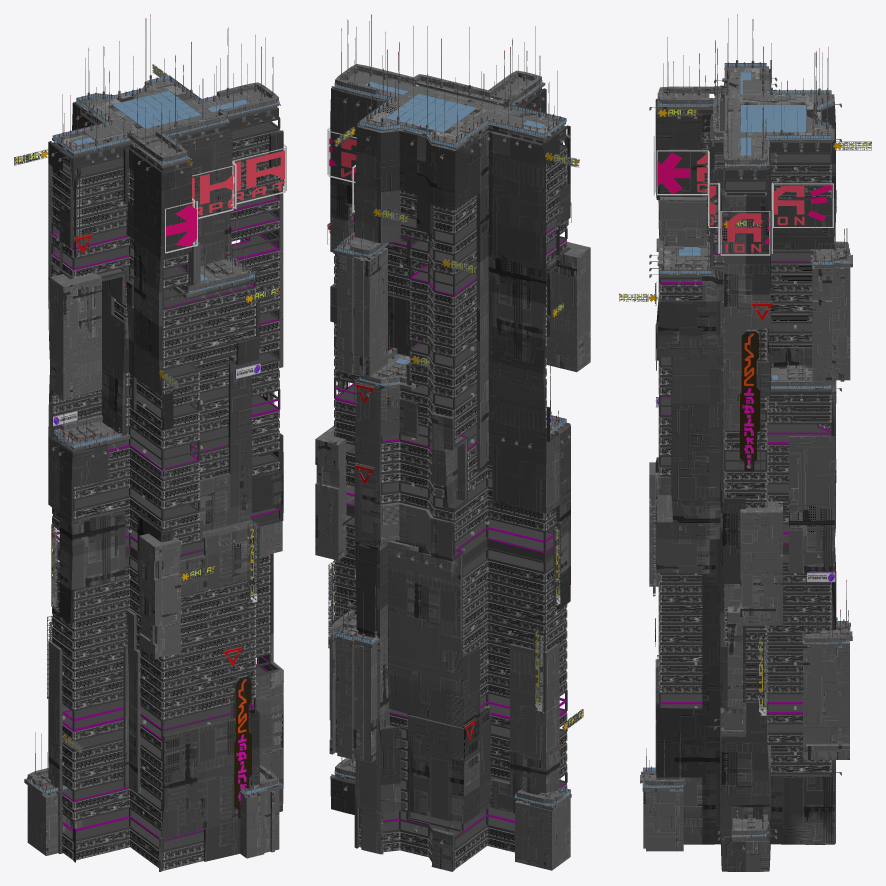
File: building.glb
The picture shows the model from 3 angles, left to right: view 1: azimuth 30°, elevation 25°; view 2: azimuth 150°, elevation 25°; view 3: azimuth 270°, elevation 25°; orthographic projection. The views are drawn at different scales.
Visible parts, largest first — view 1: default, window_02, window_01, decal_big, decal04, decal01, decal02; view 2: default, window_02, window_01, decal01; view 3: default, window_02, decal_big, decal04, window_01, decal01.
Boxes of the visible parts, bbox=[...] form: default: bbox=[14, 14, 286, 871]; window_02: bbox=[52, 131, 277, 869]; window_01: bbox=[51, 131, 279, 869]; decal_big: bbox=[166, 150, 284, 246]; decal04: bbox=[234, 352, 269, 818]; decal01: bbox=[15, 65, 279, 752]; decal02: bbox=[53, 363, 260, 479]; default: bbox=[315, 14, 590, 871]; window_02: bbox=[336, 150, 566, 868]; window_01: bbox=[334, 149, 567, 868]; decal01: bbox=[335, 127, 583, 730]; default: bbox=[619, 14, 871, 871]; window_02: bbox=[662, 132, 830, 772]; decal_big: bbox=[657, 153, 832, 252]; decal04: bbox=[740, 331, 759, 471]; window_01: bbox=[660, 165, 831, 772]; decal01: bbox=[619, 109, 871, 301].
Bounding box in the file's own units: 2.64 × 7.77 × 2.29.
Materials: 10 (10 with a texture image).
